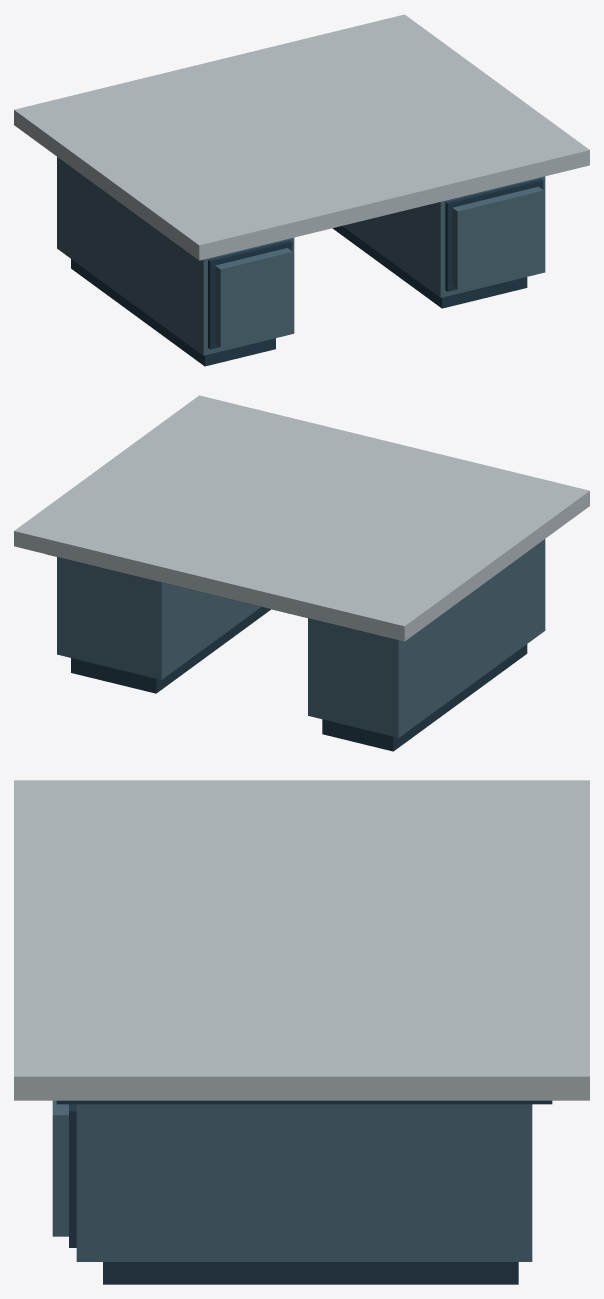
Rendered from intake-bench.glb.
3 views of the same model, one above another, from view 1: azimuth 30°, elevation 25°; view 2: azimuth 150°, elevation 25°; view 3: azimuth 270°, elevation 25° (orthographic). The views are drawn at different scales.
Visible parts, largest first — view 1: Worktop plate, Drive cabinet, Service front panel, Drive front panel, Service cabinet, Front return, Drive plinth, Service plinth, Left return, Service door recess, Drive door recess; view 2: Worktop plate, Drive cabinet, Service cabinet, Rear return, Drive plinth, Service plinth, Left return; view 3: Worktop plate, Service cabinet, Service plinth, Right return, Recessed load frame, Service front panel, Service door recess.
Boxes of the visible parts, x1=… form: Worktop plate: x1=14, y1=14, x2=589, y2=251; Drive cabinet: x1=57, y1=157, x2=294, y2=355; Service front panel: x1=452, y1=186, x2=543, y2=289; Drive front panel: x1=215, y1=248, x2=292, y2=347; Service cabinet: x1=342, y1=176, x2=545, y2=297; Front return: x1=196, y1=156, x2=589, y2=260; Drive plinth: x1=71, y1=259, x2=275, y2=366; Service plinth: x1=332, y1=226, x2=527, y2=308; Left return: x1=16, y1=118, x2=196, y2=258; Service door recess: x1=445, y1=179, x2=543, y2=291; Drive door recess: x1=208, y1=240, x2=292, y2=349; Worktop plate: x1=14, y1=395, x2=589, y2=632; Drive cabinet: x1=308, y1=539, x2=545, y2=737; Service cabinet: x1=57, y1=557, x2=260, y2=679; Rear return: x1=14, y1=537, x2=407, y2=641; Drive plinth: x1=322, y1=644, x2=527, y2=751; Service plinth: x1=71, y1=607, x2=270, y2=693; Left return: x1=407, y1=499, x2=587, y2=639; Worktop plate: x1=14, y1=780, x2=589, y2=1086; Service cabinet: x1=76, y1=1104, x2=532, y2=1261; Service plinth: x1=103, y1=1262, x2=518, y2=1284; Right return: x1=22, y1=1087, x2=581, y2=1100; Recessed load frame: x1=56, y1=1100, x2=552, y2=1104; Service front panel: x1=52, y1=1100, x2=68, y2=1236; Service door recess: x1=69, y1=1104, x2=76, y2=1247.
Size of the model in its own units: 2.8 by 1.03 by 2.3.
